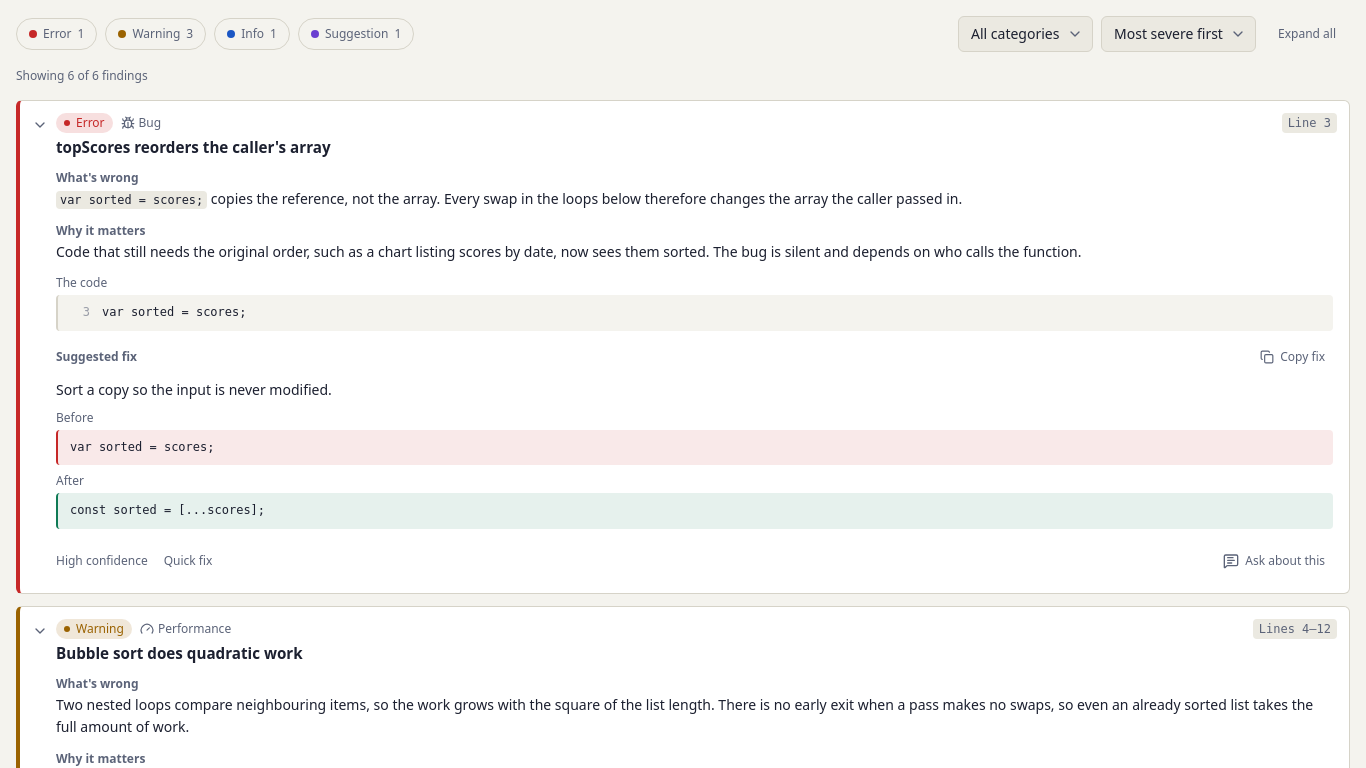
Test: FindingsTab › expands and collapses everything
The width and height of the screenshot is (1366, 768).
Click the button "Expand all" at x=1307, y=34, box [1264,16,1350,52]
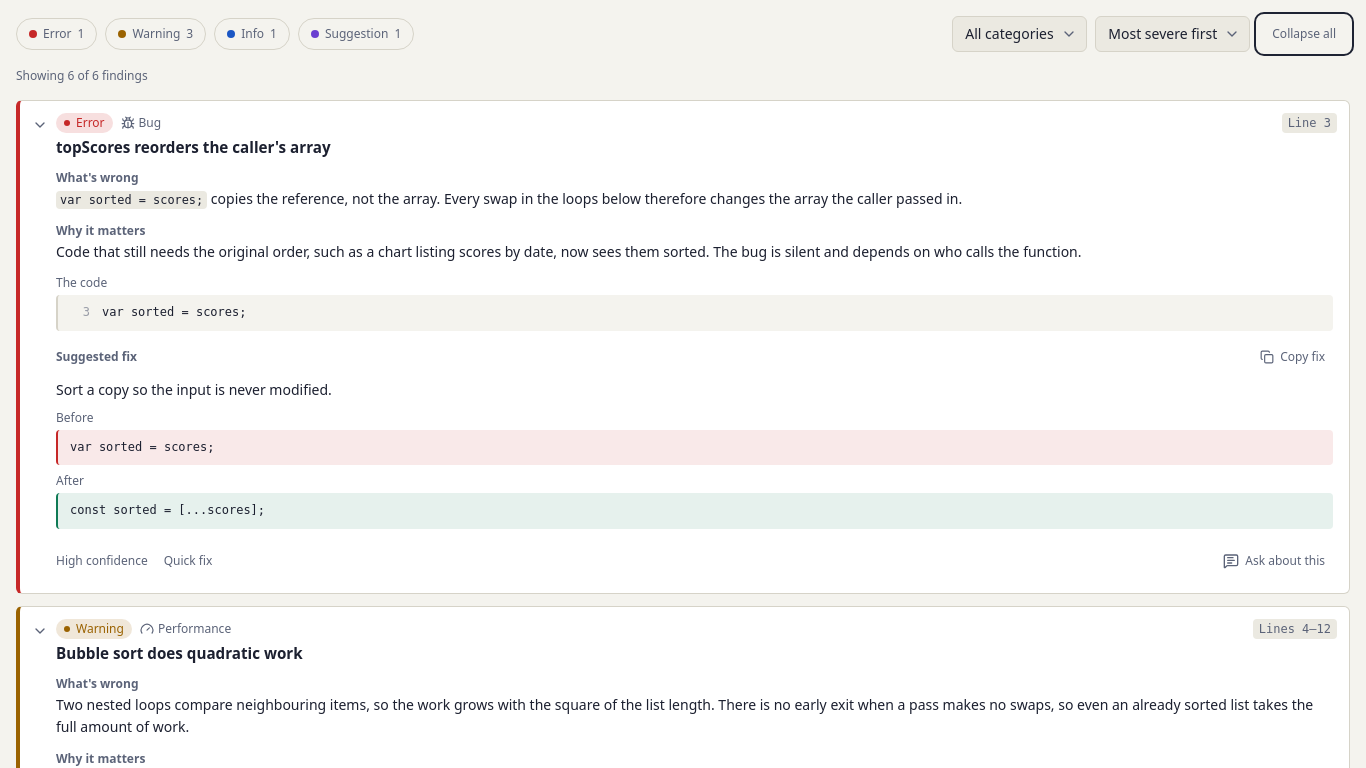
Click the button "Collapse all" at x=1304, y=34, box [1258,16,1350,52]
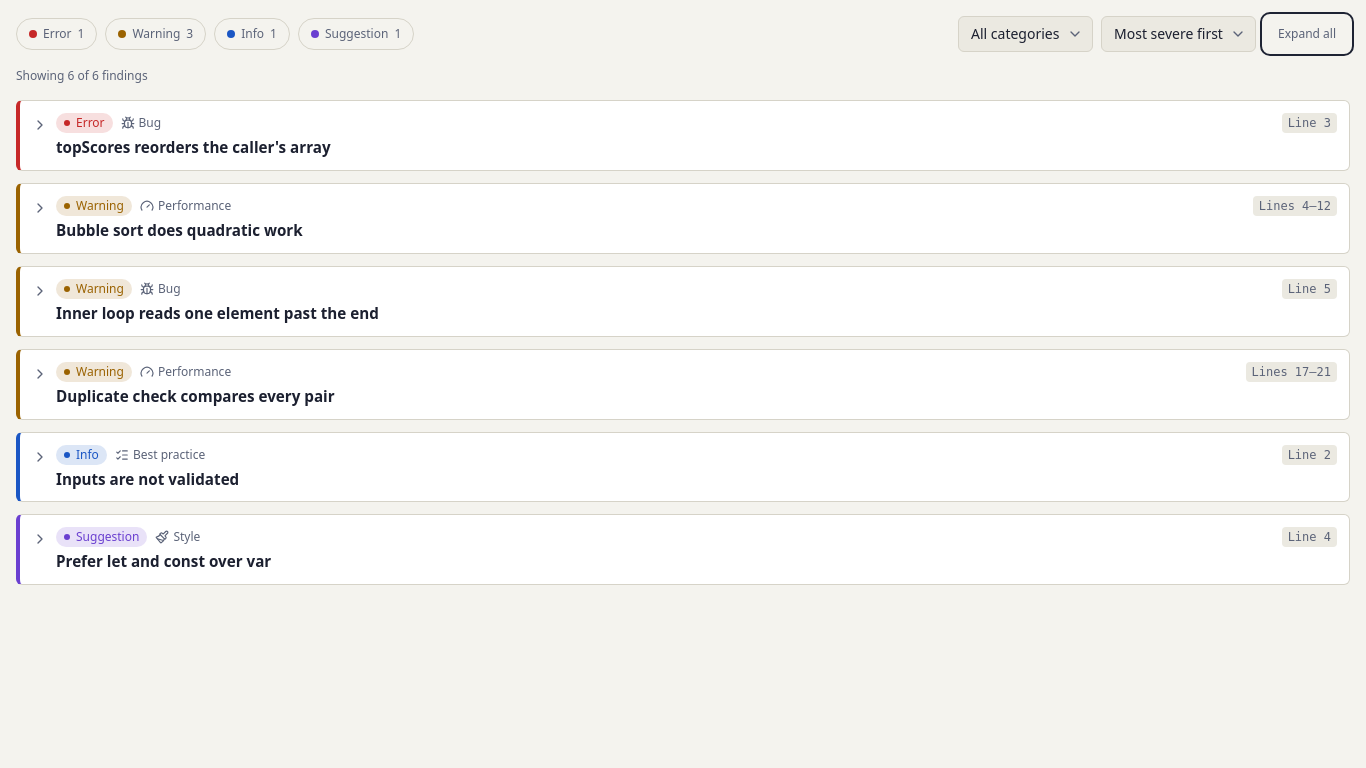
Expected: the button "Error Bug topScores reorders the caller's array" is collapsed, [32,113,1274,158]
